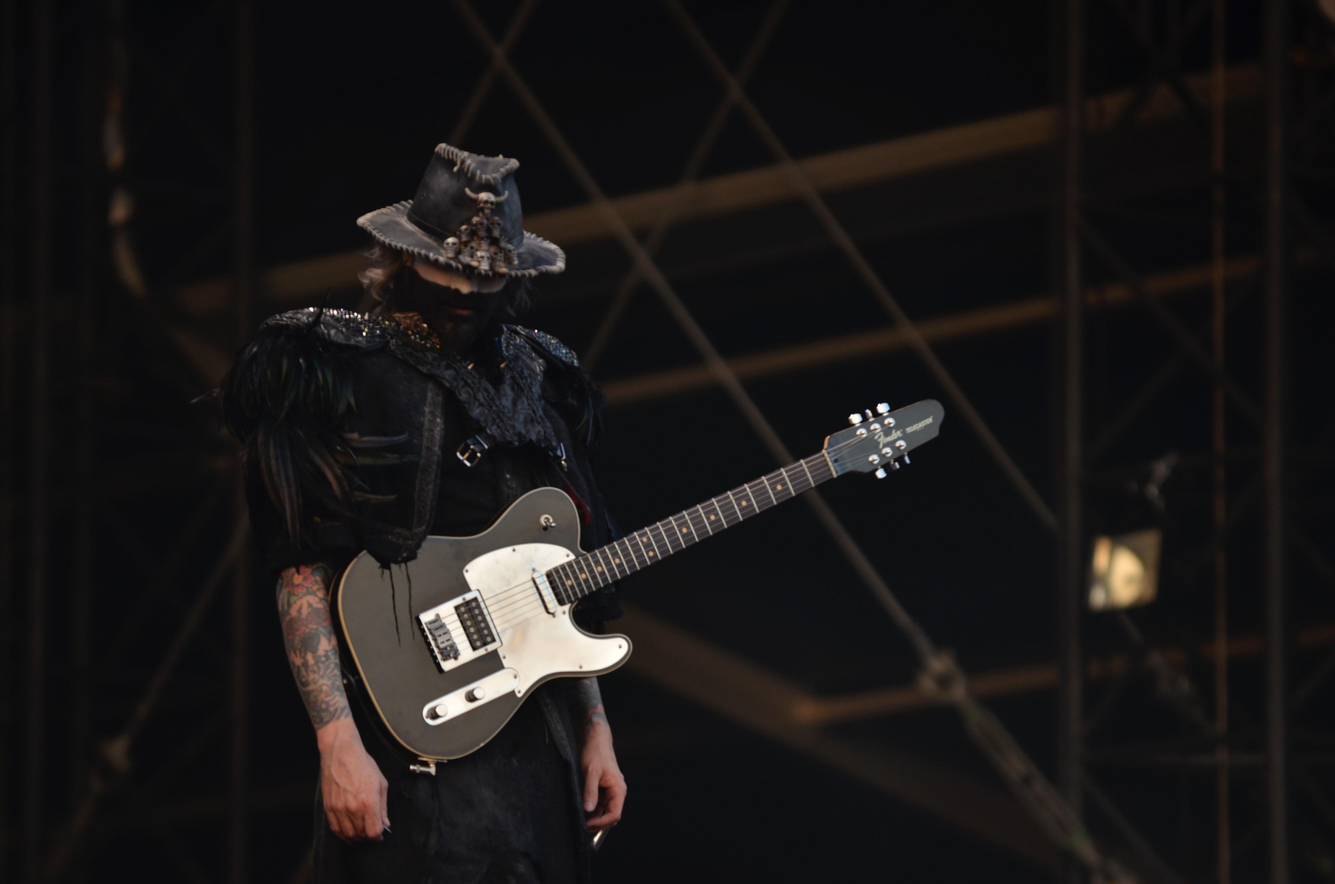acousticguitar: (328, 394, 945, 768)
